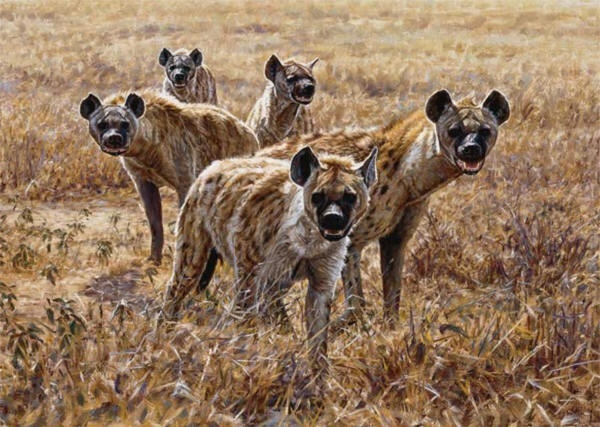hyna: (249, 84, 512, 340), (151, 142, 382, 391), (77, 85, 264, 271), (243, 49, 323, 148), (155, 41, 222, 107)
